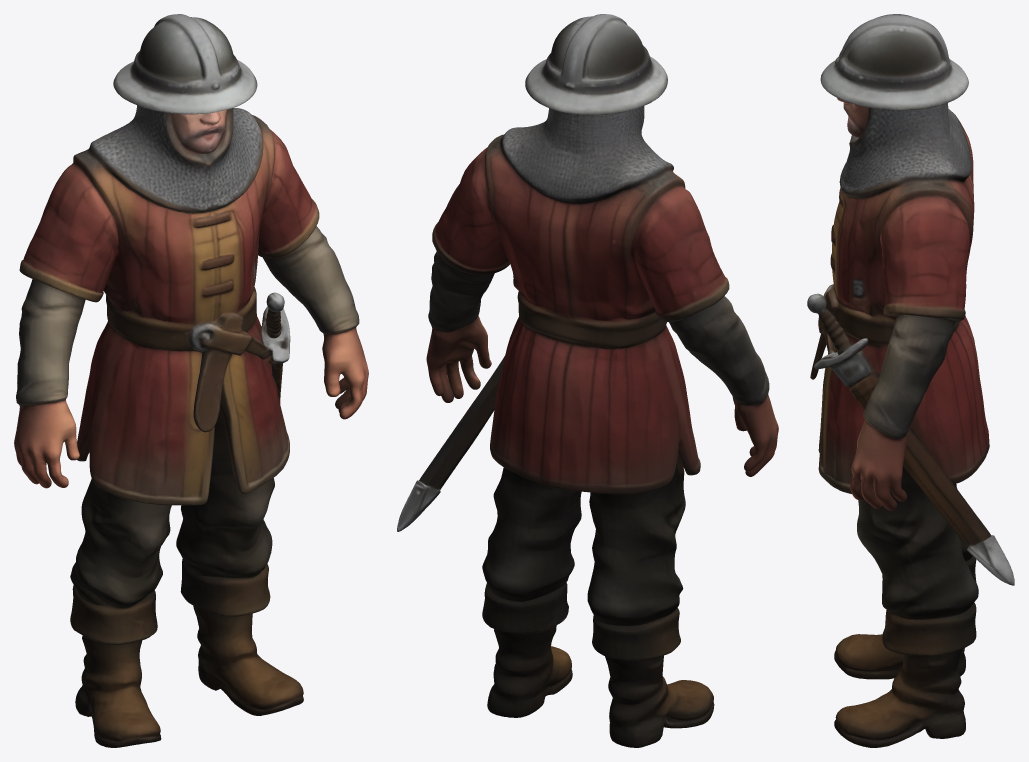
The model's file is guard.glb.
3 renders of one model, left to right at view 1: azimuth 30°, elevation 25°; view 2: azimuth 150°, elevation 25°; view 3: azimuth 270°, elevation 25°, orthographic.
Visible parts, largest first — view 1: world; view 2: world; view 3: world.
Boxes of the visible parts, x1=… form: world: x1=14, y1=14, x2=368, y2=747; world: x1=397, y1=14, x2=778, y2=747; world: x1=807, y1=14, x2=1014, y2=747.
Bounding box in the file's own units: 0.5201 × 0.9961 × 0.2739.
1 material, 1 textured.
